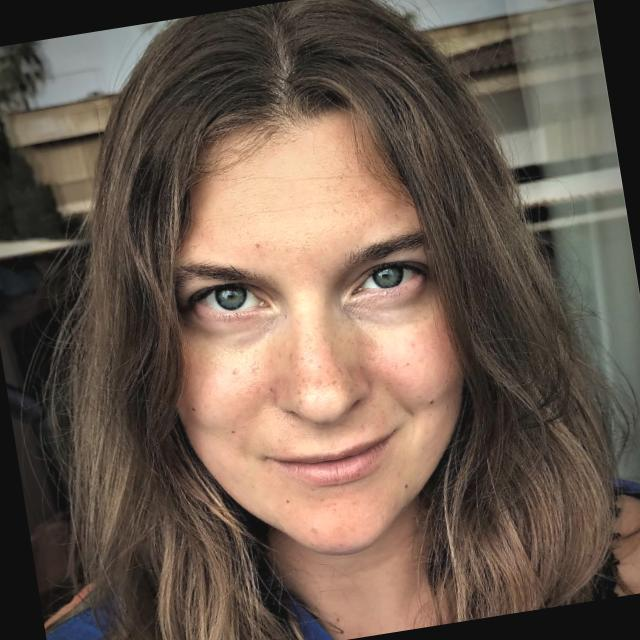freckle: (180, 308, 457, 414)
